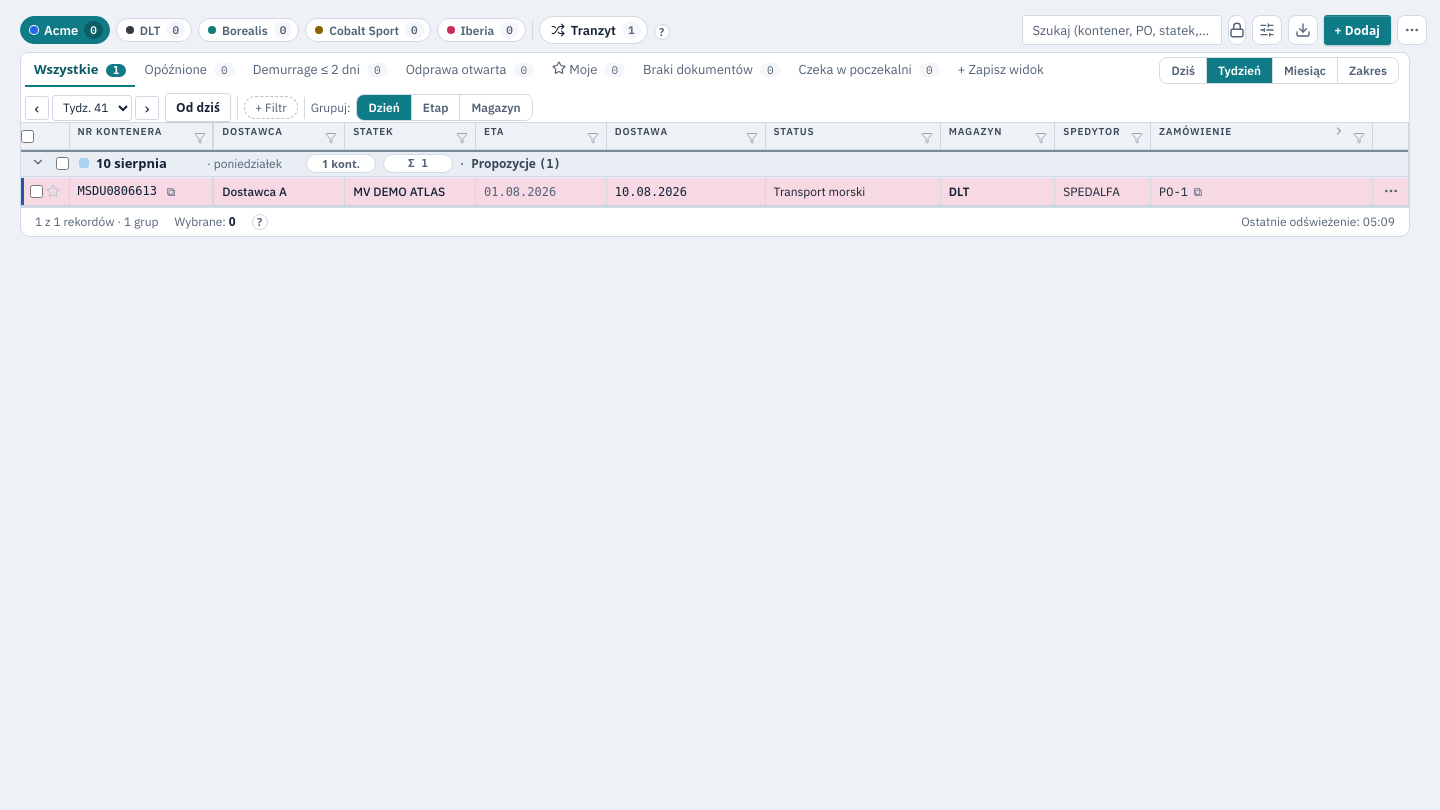
Scenario: kolejka — modal czyszczenia z filtrem › klik „Wyczyść kolejkę" otwiera modal z inputem daty i przyciskiem danger (bez window.confirm)
The image size is (1440, 810).
Expected: the text "MSDU0806613" is shown, [78, 184, 157, 198]
„Wyczyść kolejkę" (destrukcyjne) siedzi w menu „⋯"
What coordinates should you click on to do the following:
click the button with class "kq-more-menu"
I would click on:
 (1412, 30)
Its box is [1397, 15, 1427, 45].
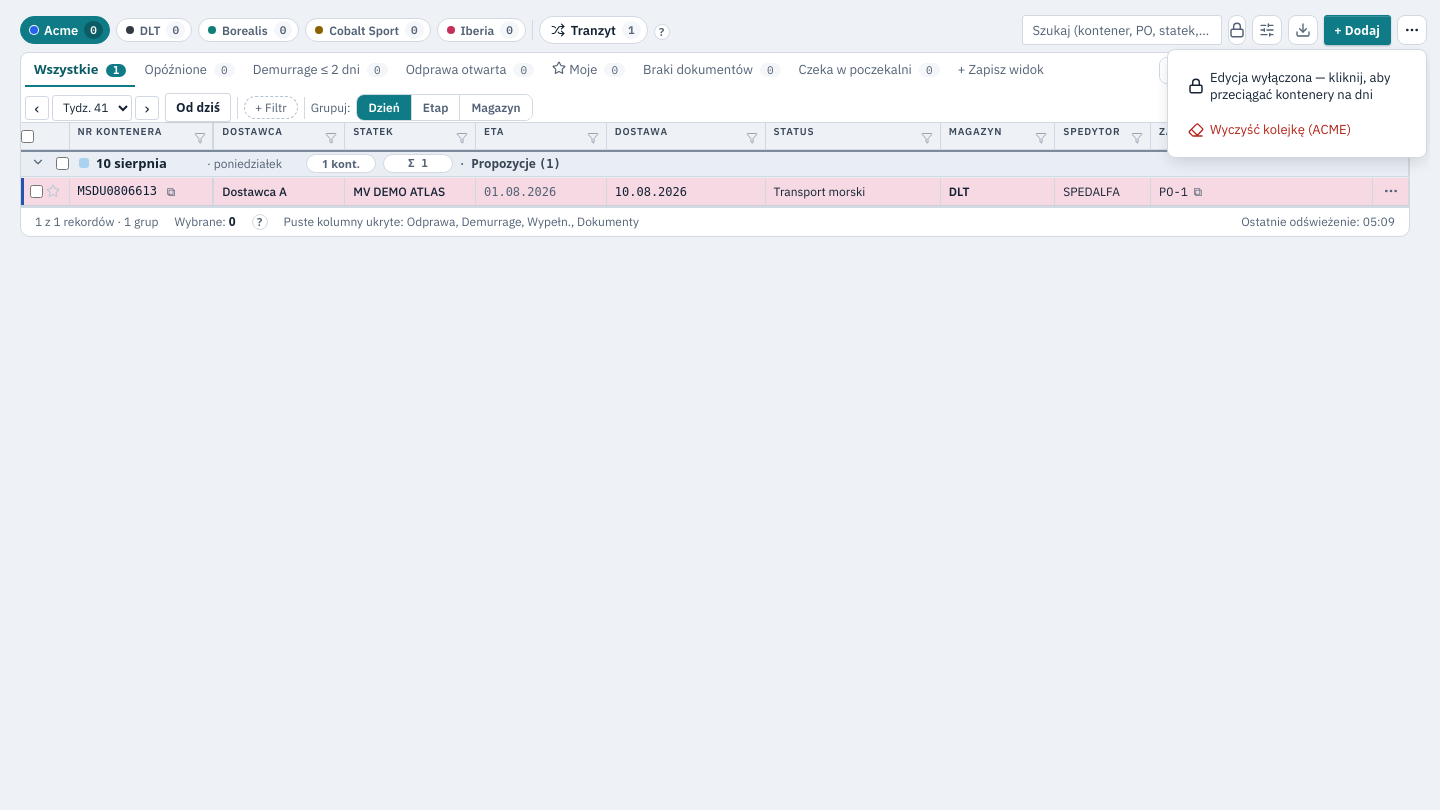
What coordinates should you click on to do the following:
click the button "Wyczyść kolejkę (ACME)"
I would click on:
 (1297, 130)
Its box is [1180, 114, 1414, 145].
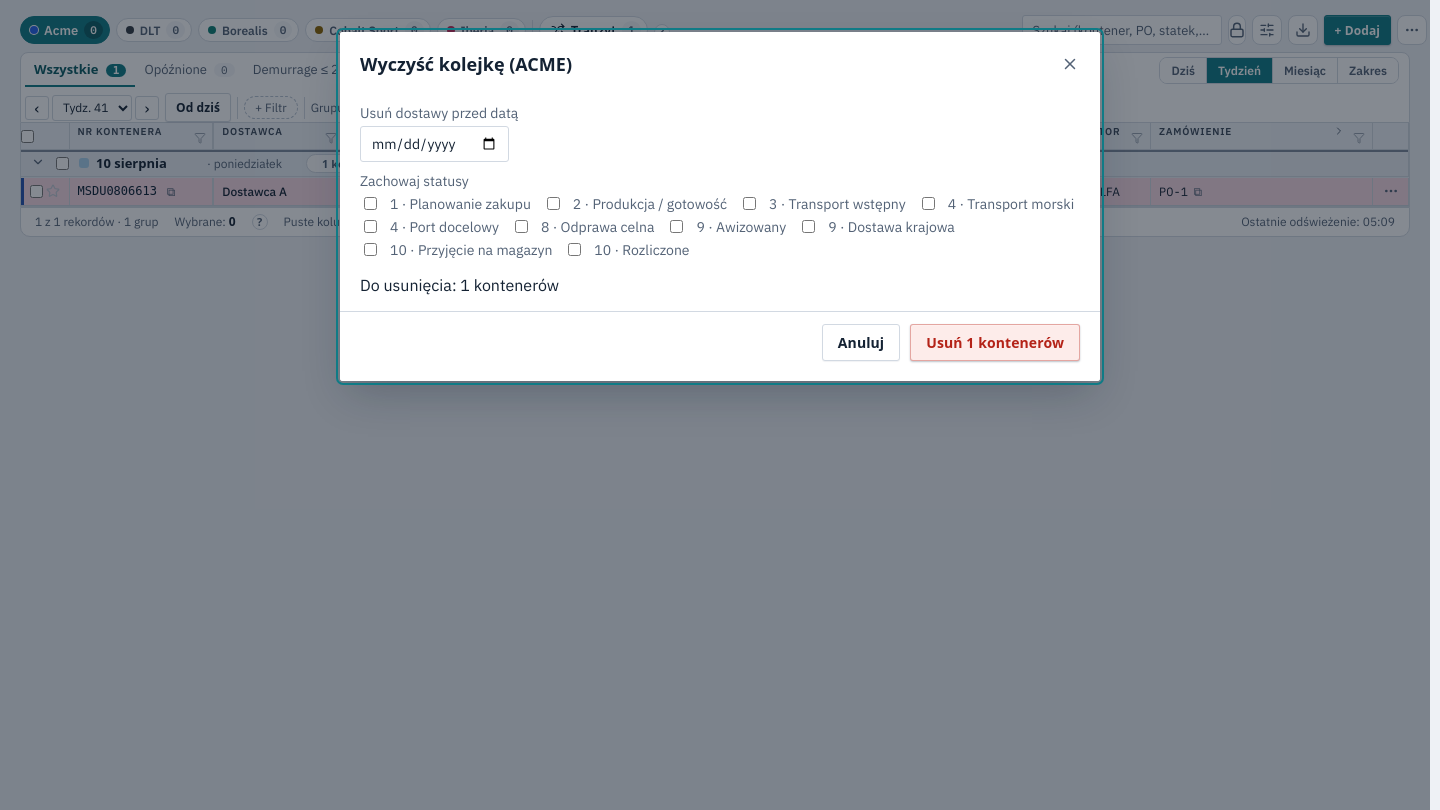
Now the dialog with class "modal" is shown, box [340, 32, 1100, 381]
Now the date field labelled "Usuń dostawy przed datą" is shown, box [360, 126, 509, 162]
Now the button with class "danger" is shown, box [910, 324, 1080, 361]
